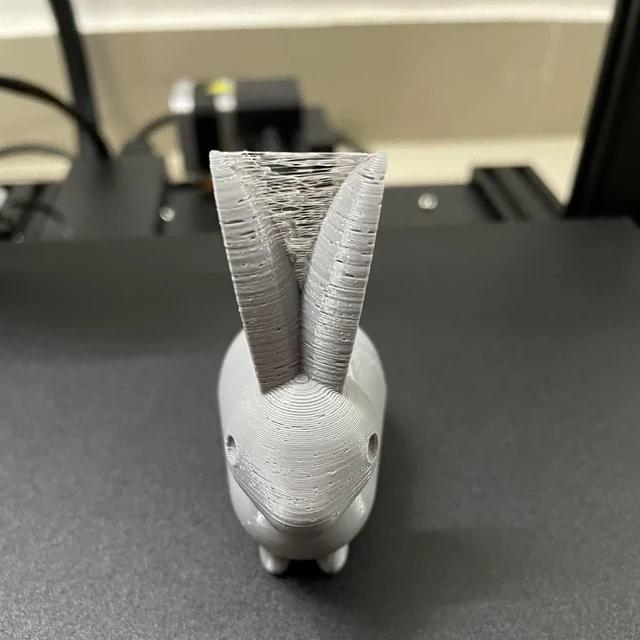stringing: (248, 138, 348, 231)
